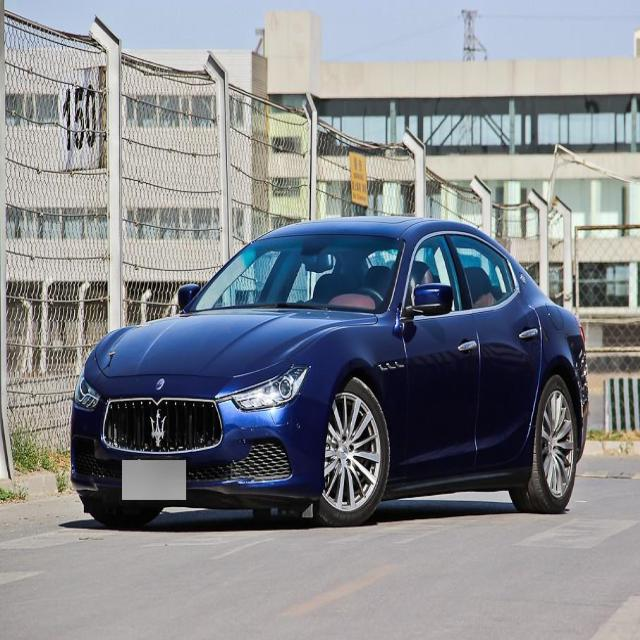door: (454, 231, 540, 474)
front_bumper: (69, 372, 324, 503)
front_glass: (196, 230, 405, 313)
front_left_side_door: (397, 226, 482, 489)
front_left_side_light: (233, 360, 310, 413)
front_left_side_mirror: (410, 279, 453, 318)
front_right_side_light: (74, 369, 102, 412)
front_right_side_mirror: (177, 280, 202, 312)
wheel: (315, 378, 393, 518), (523, 372, 575, 510)
